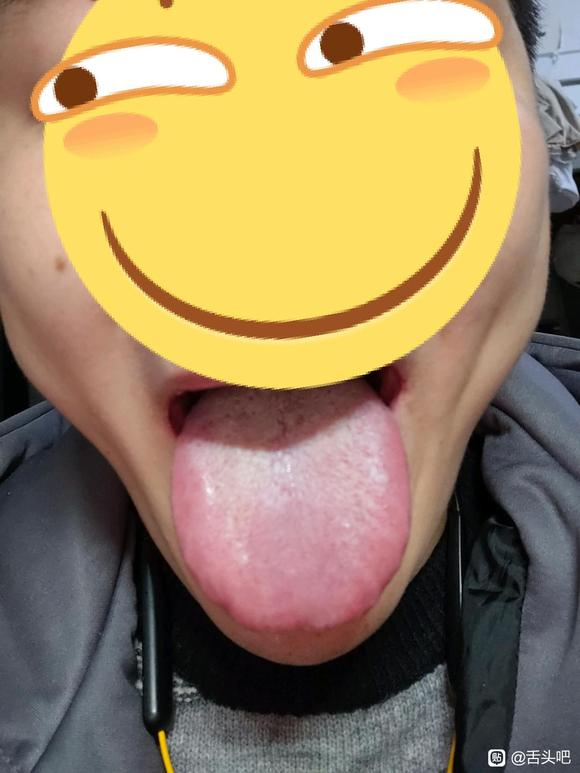baitaishe: (171, 383, 412, 635)
hongshe: (171, 383, 412, 635)
